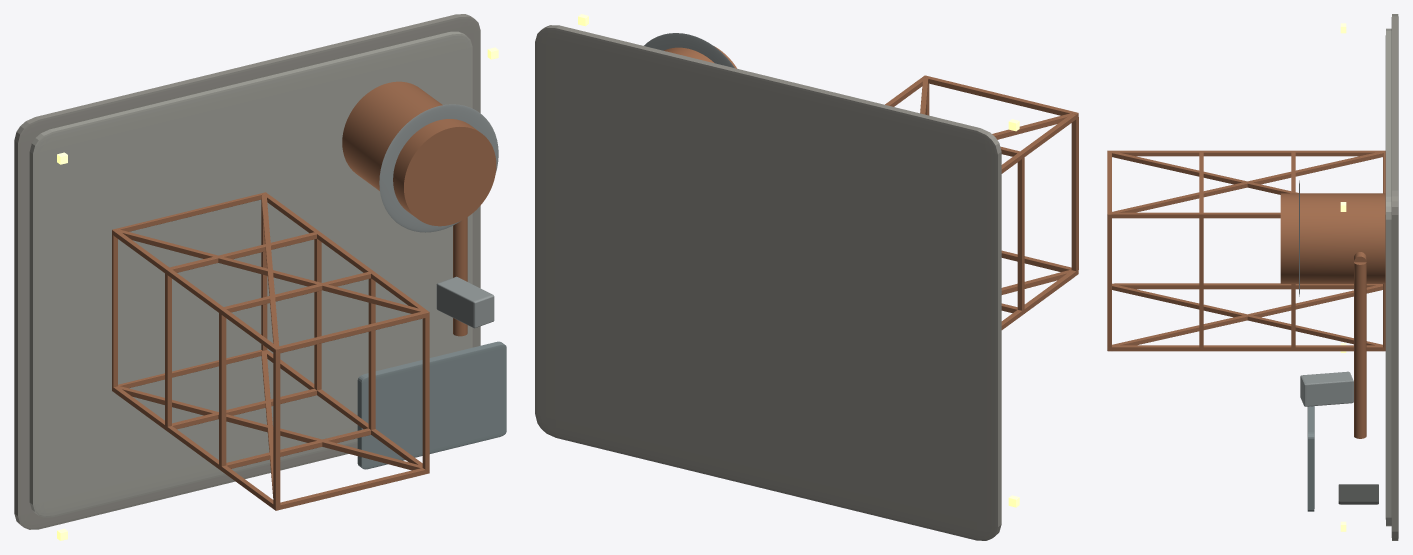
Rendered from b-46-neutral-oil-derrick-lod2.glb.
The picture shows the model from 3 angles, left to right: view 1: azimuth 30°, elevation 25°; view 2: azimuth 150°, elevation 25°; view 3: azimuth 270°, elevation 25°; orthographic projection. The views are drawn at different scales.
Parts seen in each view (by area): view 1: foundation_inner_pad, foundation, oil_storage_tank_vessel, pump_house_roof, oil_storage_tank_ring_high, primary_oil_derrick_brace_a_2.1, pumpjack_horsehead, primary_oil_derrick_brace_a_-2.1, primary_oil_derrick_column_w_n, primary_oil_derrick_column_w_s, primary_oil_derrick_column_e_n, primary_oil_derrick_column_e_s (+19 smaller); view 2: foundation, primary_oil_derrick_beam_y_3_w, primary_oil_derrick_beam_y_2_w, oil_storage_tank_ring_high, primary_oil_derrick_beam_x_3_n, primary_oil_derrick_column_w_n, primary_oil_derrick_column_w_s; view 3: oil_storage_tank_vessel, foundation, foundation_inner_pad, oil_export_pipe_segment_2, primary_oil_derrick_column_e_s, primary_oil_derrick_column_w_n, pumpjack_horsehead, primary_oil_derrick_brace_a_2.1, primary_oil_derrick_brace_b_-2.1, primary_oil_derrick_brace_a_-2.1, primary_oil_derrick_column_w_s, primary_oil_derrick_column_e_n (+5 smaller).
Part boxes in pixels (x1=…): foundation_inner_pad: x1=29, y1=31, x2=472, y2=517; foundation: x1=14, y1=14, x2=480, y2=529; oil_storage_tank_vessel: x1=342, y1=81, x2=496, y2=226; pump_house_roof: x1=357, y1=341, x2=506, y2=469; oil_storage_tank_ring_high: x1=379, y1=104, x2=498, y2=232; primary_oil_derrick_brace_a_2.1: x1=117, y1=229, x2=423, y2=313; pumpjack_horsehead: x1=436, y1=276, x2=494, y2=328; primary_oil_derrick_brace_a_-2.1: x1=117, y1=386, x2=422, y2=470; primary_oil_derrick_column_w_n: x1=113, y1=230, x2=276, y2=351; primary_oil_derrick_column_w_s: x1=113, y1=386, x2=273, y2=508; primary_oil_derrick_column_e_n: x1=264, y1=193, x2=426, y2=310; primary_oil_derrick_column_e_s: x1=264, y1=350, x2=422, y2=466; foundation: x1=535, y1=25, x2=1001, y2=540; primary_oil_derrick_beam_y_3_w: x1=1071, y1=112, x2=1078, y2=271; primary_oil_derrick_beam_y_2_w: x1=1017, y1=152, x2=1024, y2=310; oil_storage_tank_ring_high: x1=644, y1=33, x2=734, y2=67; primary_oil_derrick_beam_x_3_n: x1=926, y1=76, x2=1078, y2=118; primary_oil_derrick_column_w_n: x1=1001, y1=114, x2=1076, y2=173; primary_oil_derrick_column_w_s: x1=1001, y1=270, x2=1076, y2=329; oil_storage_tank_vessel: x1=1280, y1=193, x2=1385, y2=283; foundation: x1=1391, y1=14, x2=1398, y2=540; foundation_inner_pad: x1=1385, y1=28, x2=1391, y2=526; oil_export_pipe_segment_2: x1=1354, y1=262, x2=1366, y2=438; primary_oil_derrick_column_e_s: x1=1111, y1=345, x2=1383, y2=351; primary_oil_derrick_column_w_n: x1=1111, y1=150, x2=1383, y2=156; pumpjack_horsehead: x1=1300, y1=371, x2=1353, y2=406; primary_oil_derrick_brace_a_2.1: x1=1111, y1=152, x2=1383, y2=212; primary_oil_derrick_brace_b_-2.1: x1=1112, y1=285, x2=1382, y2=345; primary_oil_derrick_brace_a_-2.1: x1=1112, y1=285, x2=1382, y2=345; primary_oil_derrick_column_w_s: x1=1112, y1=283, x2=1382, y2=289; primary_oil_derrick_column_e_n: x1=1111, y1=212, x2=1280, y2=218.
Size of what is drawn, in the model's own units: 13 by 11 by 8.35.
